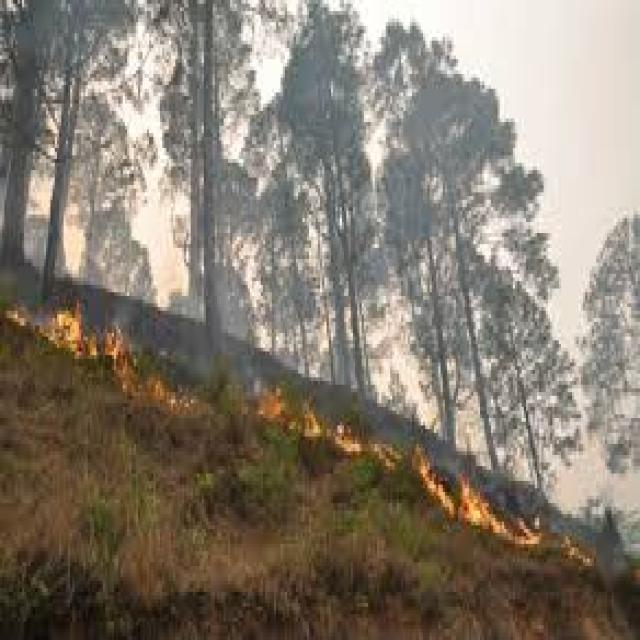Fire: (254, 371, 602, 573), (2, 287, 214, 442)
